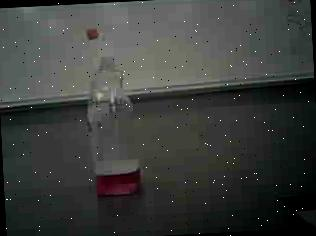hazard: (80, 24, 148, 204)
